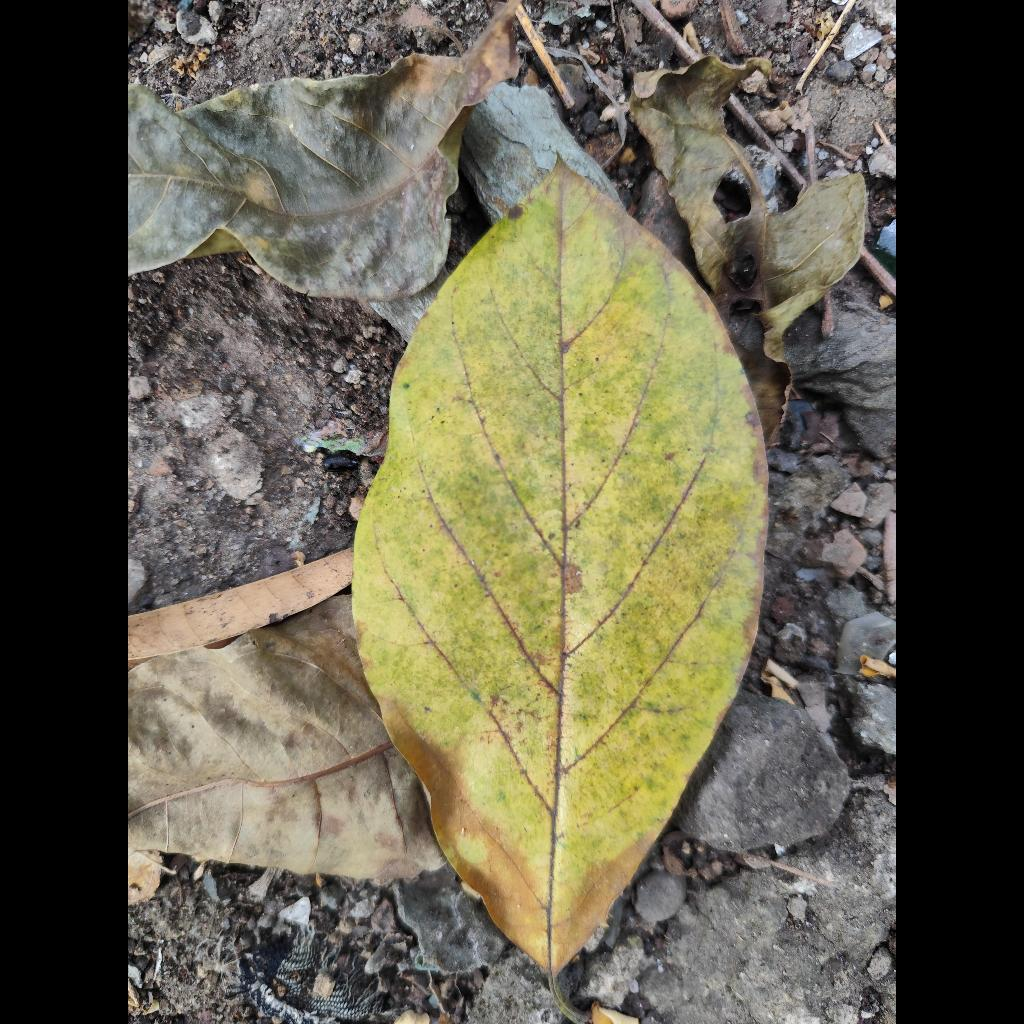deficiencia_nutricional: (353, 164, 767, 974)
